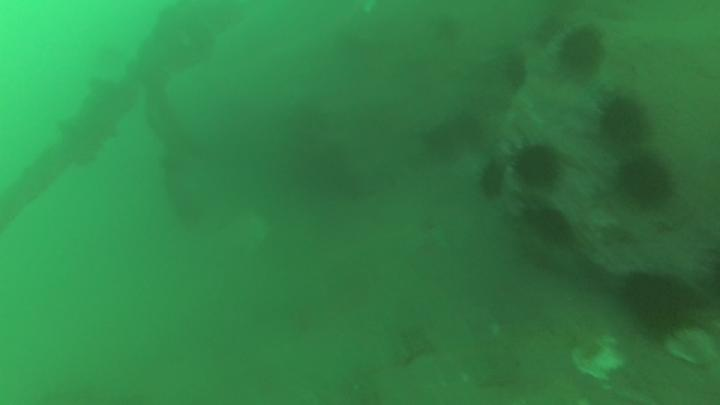echinus: (625, 266, 693, 345), (609, 146, 684, 210), (506, 135, 573, 195), (593, 90, 658, 151), (550, 25, 614, 83), (515, 193, 575, 243), (466, 153, 512, 203)
scallop: (671, 323, 717, 369)
